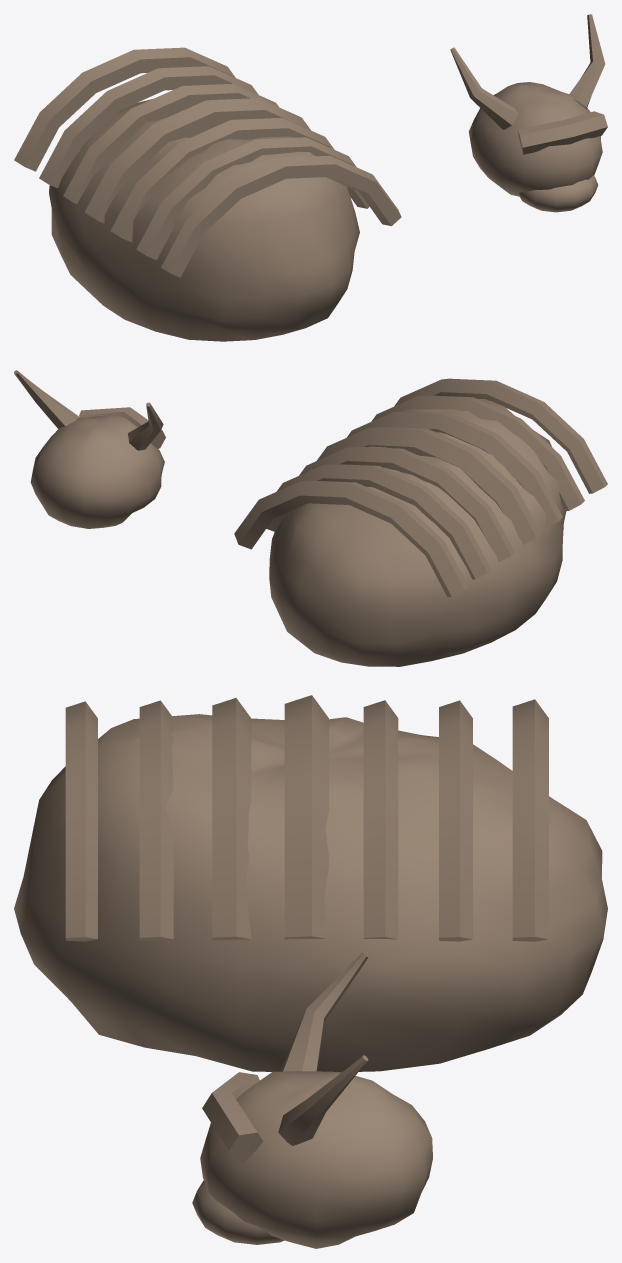
File: colossus.glb
3 views of the same model, one above another, from view 1: azimuth 30°, elevation 25°; view 2: azimuth 150°, elevation 25°; view 3: azimuth 270°, elevation 25° (orthographic). The views are drawn at different scales.
Visible parts, largest first — view 1: body, head; view 2: body, head; view 3: body, head.
Part boxes in pixels (x1,y1,x2,y2): body: (14,47,401,341); head: (450,14,607,212); body: (234,378,607,666); head: (14,370,165,528); body: (14,695,607,1072); head: (192,952,432,1248).
Size of the model in its own units: 4.77 by 1.57 by 3.02.
